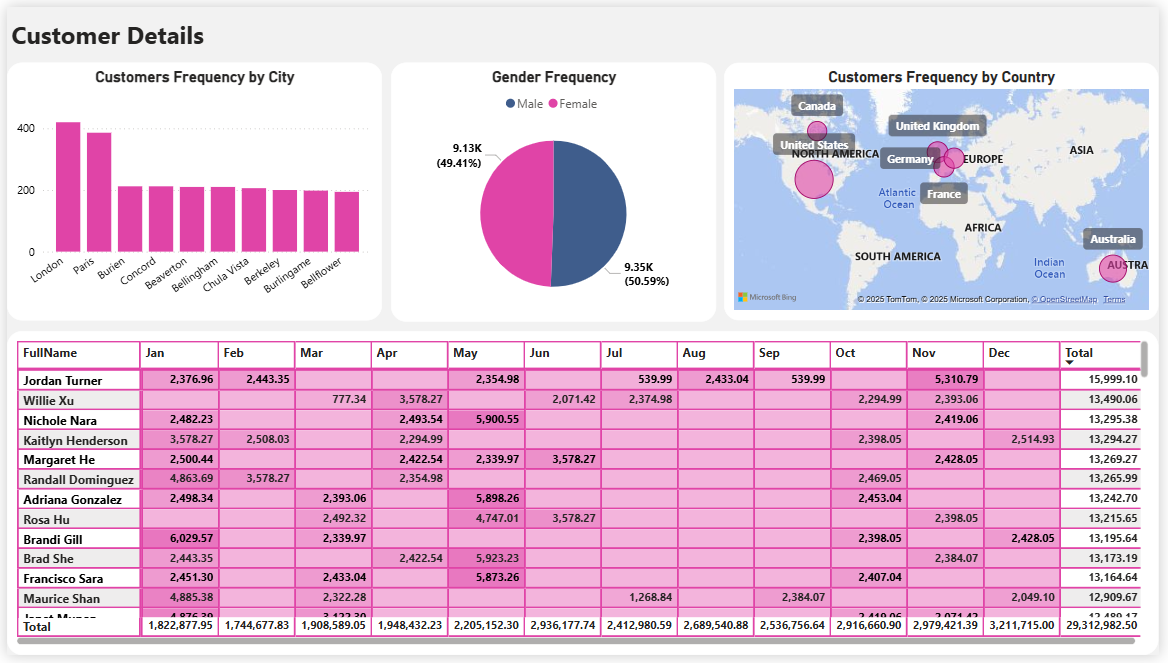

This screenshot's page, from the dashboard's own definition file:
{"tool":"powerbi","page":{"name":"Customer_Details","canvas":[1280,720],"ordinal":1},"visuals":[{"type":"textbox","box":[0,0,1279.1,61.3],"z":0},{"type":"map","title":"Customers Frequency by Country","fields":{"Category":["DimCustomer_Table.Country"],"Size":["CountNonNull(DimCustomer_Table.CustomerKey)"]},"box":[796.6,61.3,482.6,286.5],"z":1000},{"type":"clusteredColumnChart","title":"Customers Frequency by City","fields":{"Category":["DimCustomer_Table.City"],"Y":["CountNonNull(DimCustomer_Table.CustomerKey)"]},"box":[0,61.3,416.7,286.5],"z":2000},{"type":"pivotTable","fields":{"Rows":["DimCustomer_Table.FullName"],"Values":["DAX_Measures.Total Sales"],"Columns":["DimDate_Table.MonthShort"]},"box":[0,360,1279.5,360],"z":3000},{"type":"pieChart","title":"Gender Frequency","fields":{"Category":["DimCustomer_Table.Gender"],"Y":["CountNonNull(DimCustomer_Table.Gender)"]},"box":[427.4,61.3,361.5,288],"z":4000}]}

Visuals, with their boxes in screenshot pixels (x1, y1, x2, y2), scaled from the page's 1280x720 canvas onto the 1168x663 screenshot:
textbox: bbox(0, 0, 1167, 56)
"Customers Frequency by Country" map: bbox(727, 56, 1167, 320)
"Customers Frequency by City" clusteredColumnChart: bbox(0, 56, 380, 320)
pivotTable - DimCustomer_Table.FullName x DAX_Measures.Total Sales: bbox(0, 332, 1167, 662)
"Gender Frequency" pieChart: bbox(390, 56, 720, 322)
